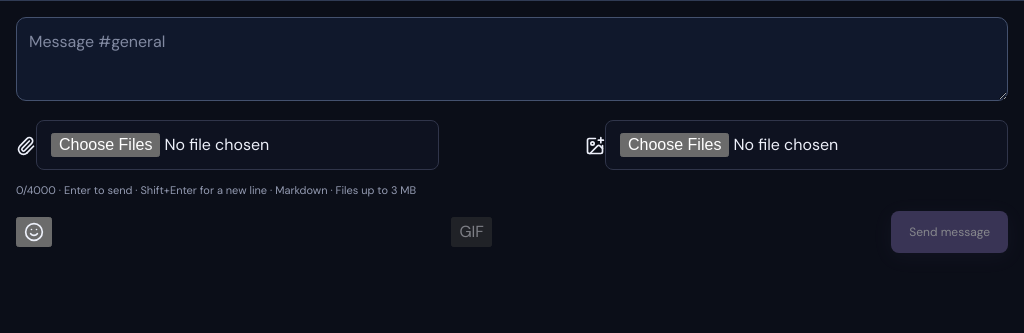
Test: ignores stale member suggestions after the query changes
This screenshot has width=1024, height=333.
Type "@old" into the text box named "Message general" at (512, 59), box [16,17,1008,101]
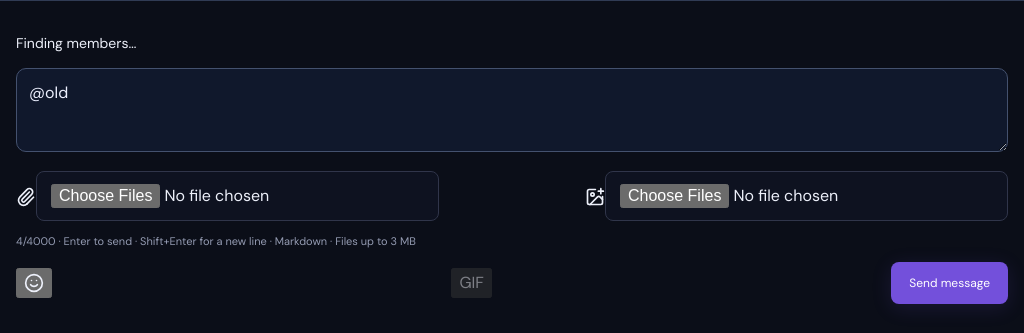
Replace the text in the text box named "Message general" with "@new" at (512, 110), box [16,68,1008,152]
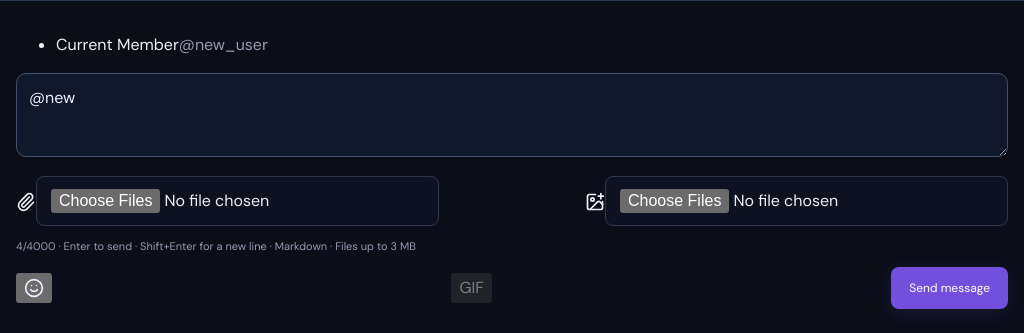
Expected: the option named "Current Member @new_user" is shown, [56,34,268,55]
Press Escape in the text box named "Message general", box [16,73,1008,157]
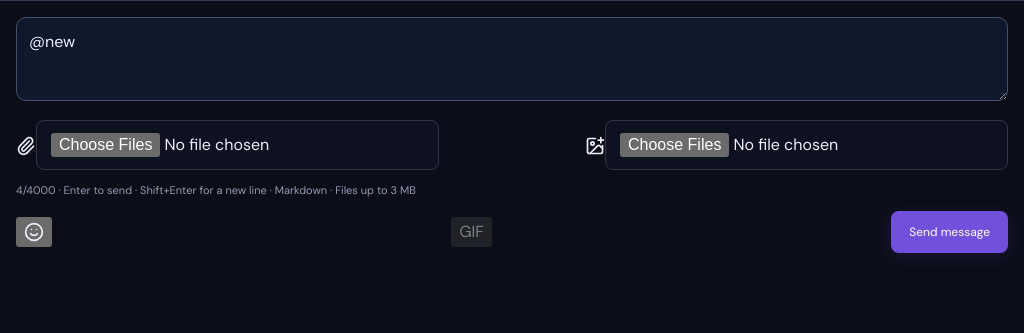
Expected: the list is gone
